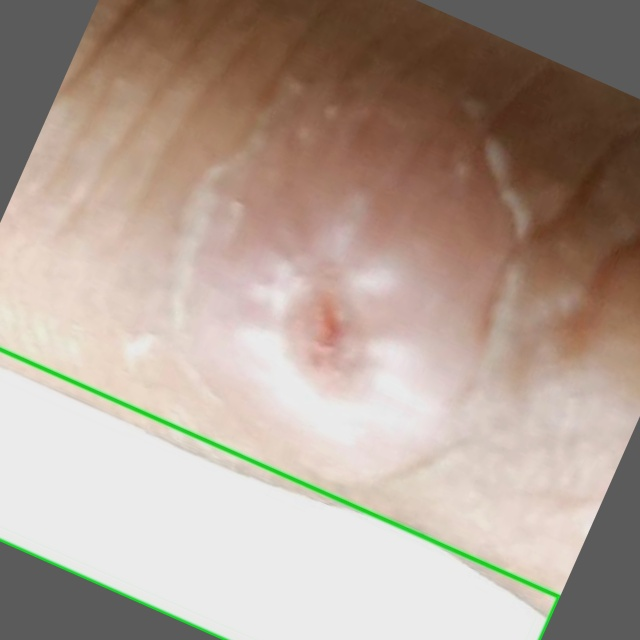Eczema: (0, 349, 559, 639)
